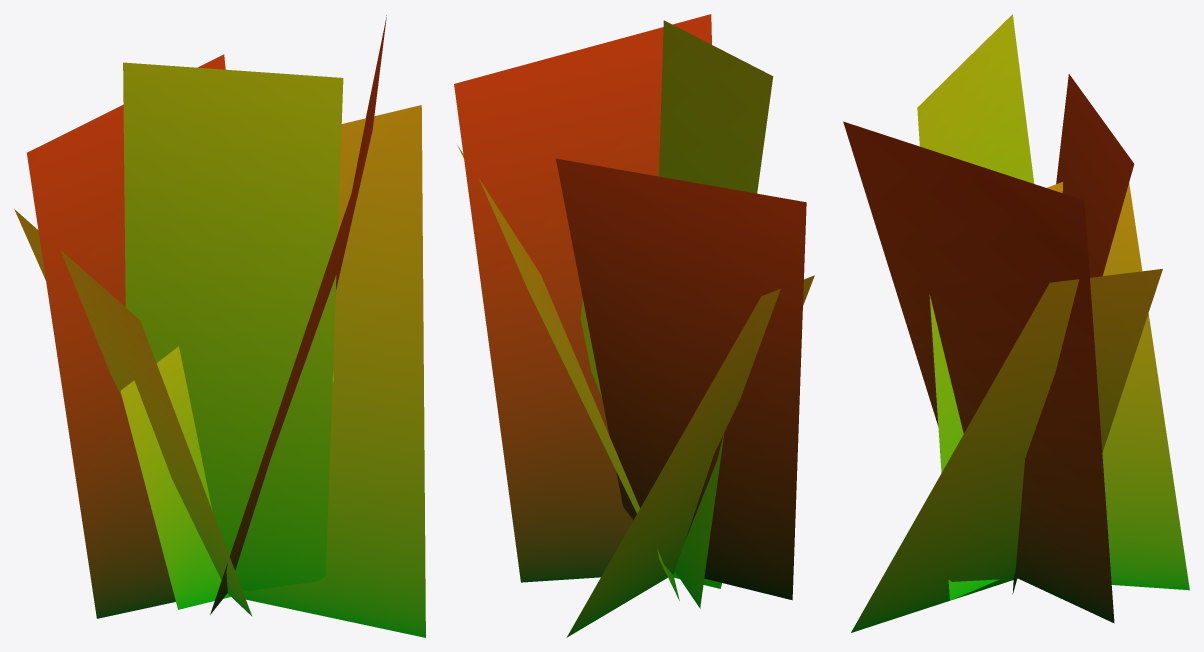
File: Seaweed_LOD2_Var8_sdpjN.fbx
3 renders of one model, left to right at view 1: azimuth 30°, elevation 25°; view 2: azimuth 150°, elevation 25°; view 3: azimuth 270°, elevation 25°, orthographic. The views are drawn at different scales.
Visible parts, largest first — view 1: _1161_Var8_LOD2; view 2: _1161_Var8_LOD2; view 3: _1161_Var8_LOD2.
Part boxes in pixels (<box>): _1161_Var8_LOD2: <box>14,15,425,637</box>; _1161_Var8_LOD2: <box>454,14,814,637</box>; _1161_Var8_LOD2: <box>843,14,1189,632</box>.
Bounding box in the file's own units: 12.83 × 17.96 × 10.82.
